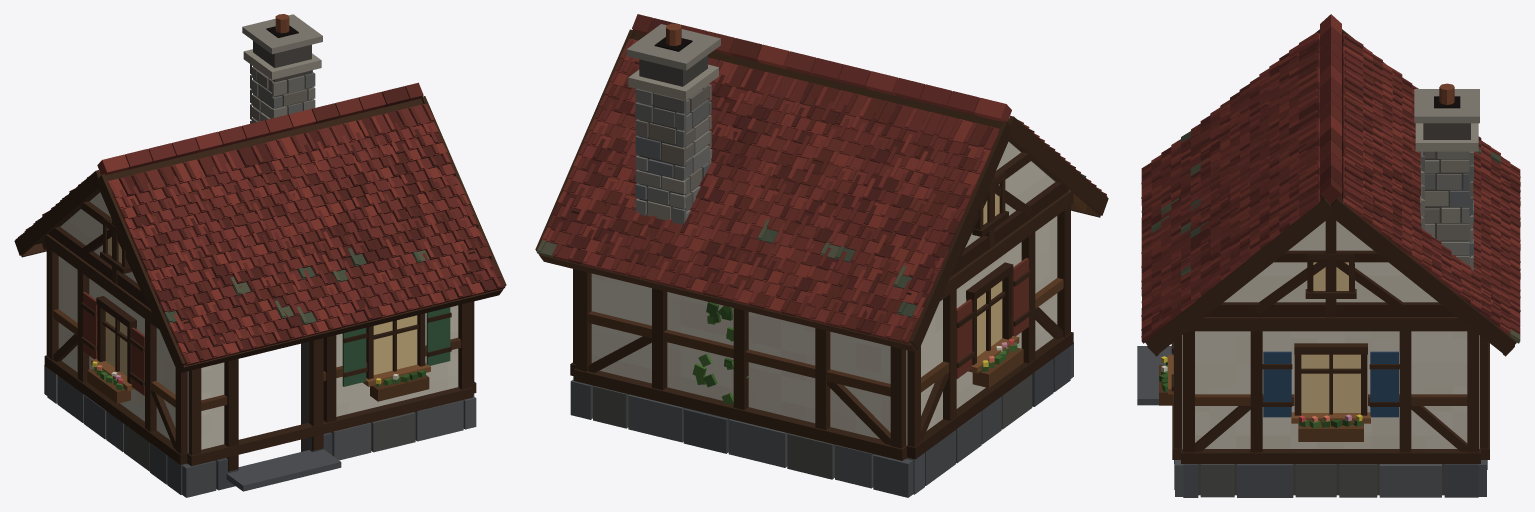
The model's file is cottage-3.glb.
3 views of the same model, side by side, from view 1: azimuth 30°, elevation 25°; view 2: azimuth 150°, elevation 25°; view 3: azimuth 270°, elevation 25° (orthographic). The views are drawn at different scales.
Visible parts, largest first — view 1: cottage-3_shell, cottage-3_glass; view 2: cottage-3_shell, cottage-3_glass; view 3: cottage-3_shell, cottage-3_glass.
Boxes of the visible parts, <box> form: cottage-3_shell: <box>14,14,506,497</box>; cottage-3_glass: <box>105,229,417,376</box>; cottage-3_shell: <box>535,14,1108,497</box>; cottage-3_glass: <box>977,184,1002,356</box>; cottage-3_shell: <box>1137,14,1520,497</box>; cottage-3_glass: <box>1301,262,1360,412</box>.
Bounding box in the file's own units: 6.94 × 6.92 × 6.44.
